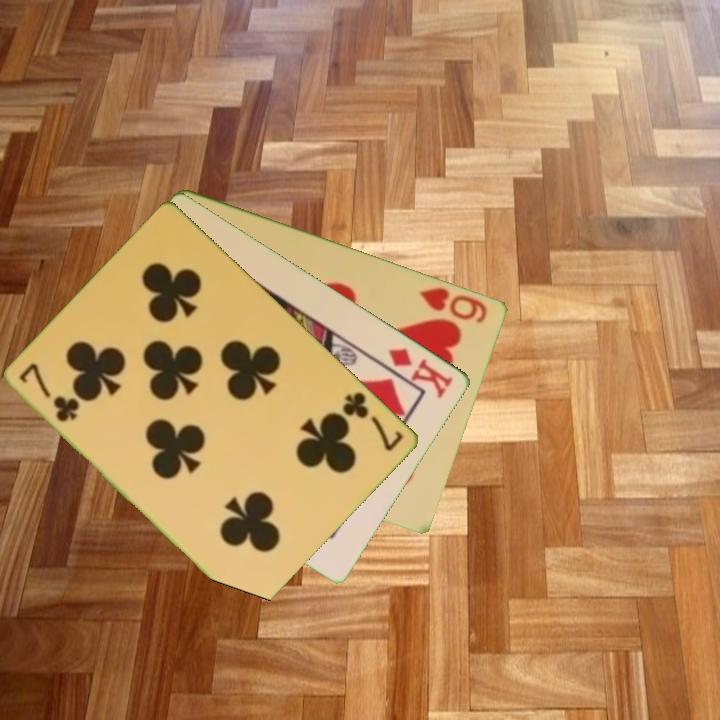6h: (416, 283, 491, 326)
7c: (339, 388, 407, 455), (16, 359, 83, 425)
Kd: (385, 344, 457, 401)
